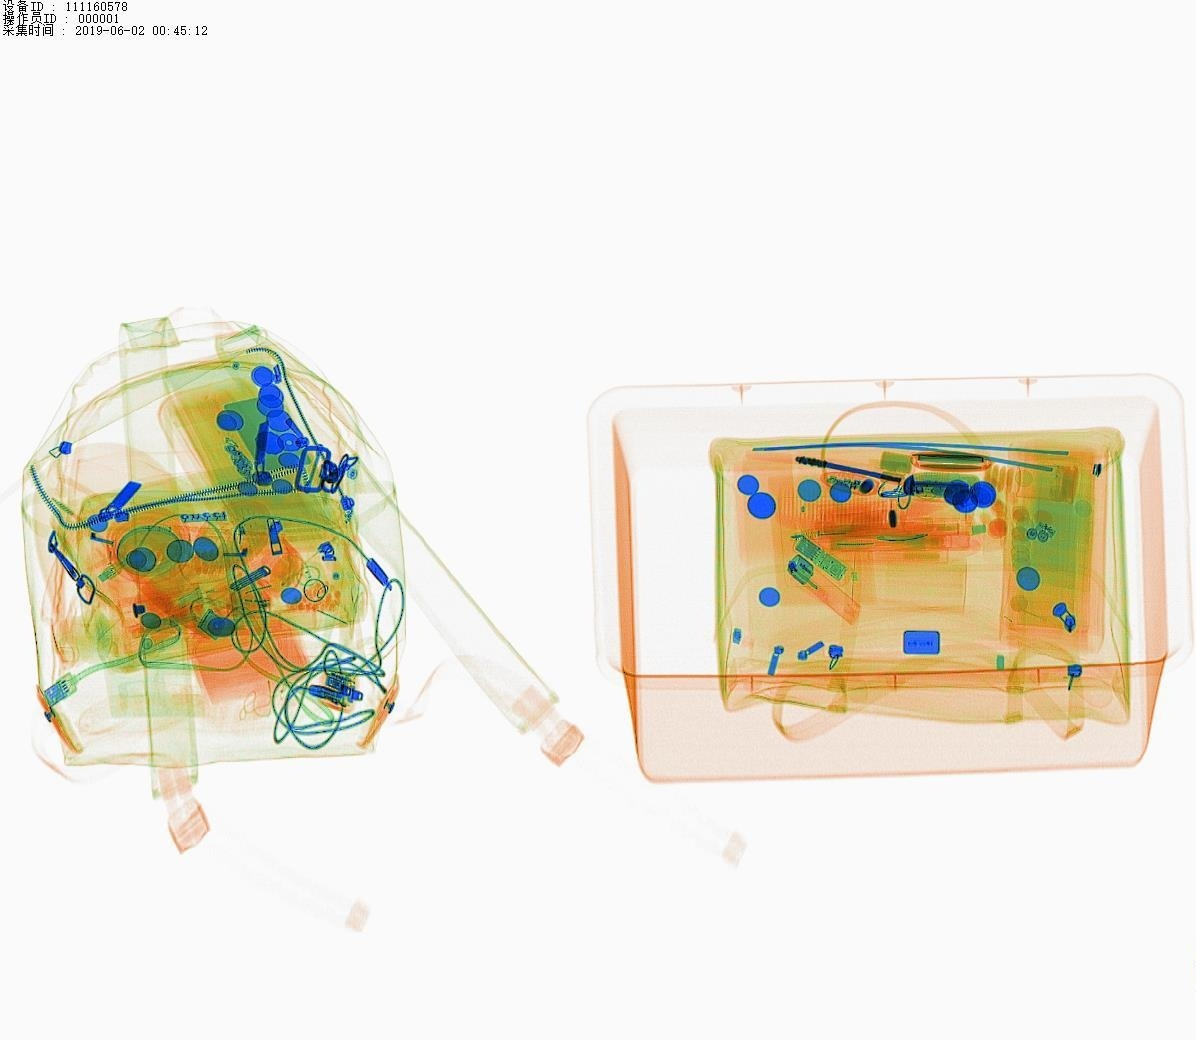NonmetallicFire: (782, 547, 868, 645)
